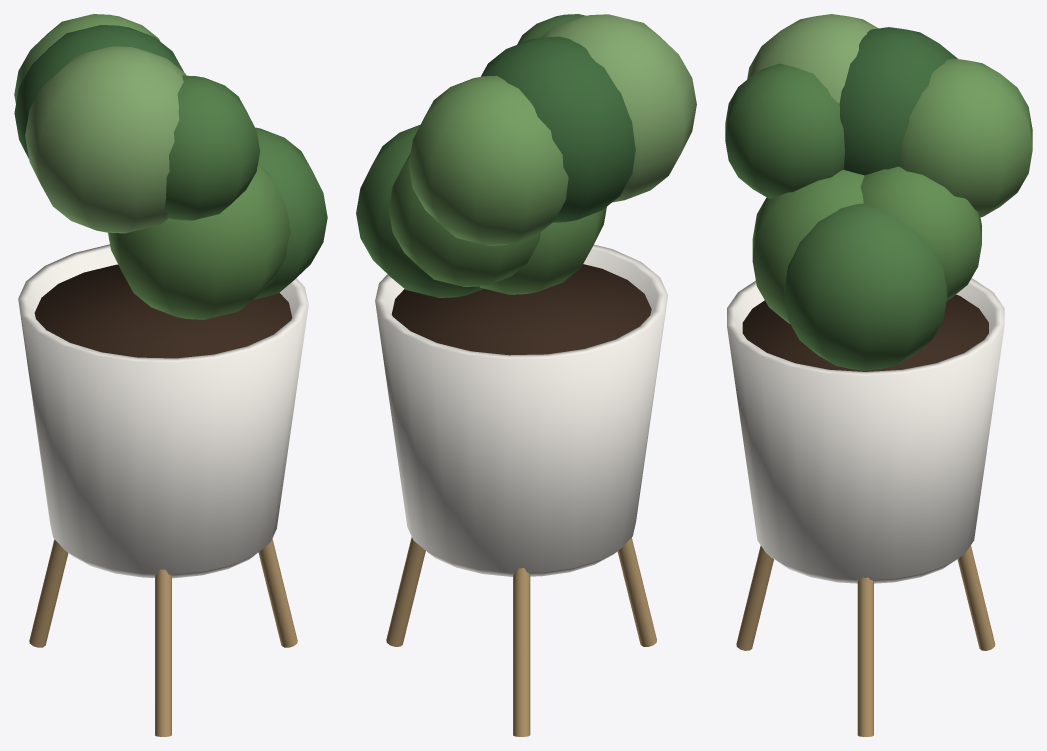
Rendered from i_plant_9.glb.
3 renders of one model, left to right at view 1: azimuth 30°, elevation 25°; view 2: azimuth 150°, elevation 25°; view 3: azimuth 270°, elevation 25°, orthographic. The views are drawn at different scales.
Visible parts, largest first — view 1: o.003, o.009, o.011, o.004, o.010, o.005, o.008, o.002, o.001, o, o.007; view 2: o.003, o.007, o.004, o.008, o.009, o.006, o.005, o.011, o.001, o.002, o, o.010; view 3: o.003, o.005, o.007, o.010, o.008, o.006, o.011, o.004, o.009, o, o.001, o.002.
Part boxes in pixels (<box>): o.003: <box>18,244,308,578</box>; o.009: <box>25,46,186,233</box>; o.011: <box>108,163,290,319</box>; o.004: <box>34,264,292,358</box>; o.010: <box>164,75,259,220</box>; o.005: <box>253,127,327,299</box>; o.008: <box>14,25,183,158</box>; o.002: <box>155,569,171,736</box>; o.001: <box>29,539,68,647</box>; o: <box>258,538,297,647</box>; o.007: <box>14,14,159,103</box>; o.003: <box>375,244,667,576</box>; o.007: <box>408,75,568,245</box>; o.004: <box>391,264,651,355</box>; o.008: <box>481,36,635,222</box>; o.009: <box>540,14,696,202</box>; o.006: <box>388,153,540,286</box>; o.005: <box>356,124,483,297</box>; o.011: <box>479,207,606,294</box>; o.001: <box>513,568,530,736</box>; o.002: <box>617,537,656,646</box>; o: <box>386,537,425,646</box>; o.010: <box>517,14,585,44</box>; o.003: <box>727,278,1004,583</box>; o.005: <box>784,203,947,370</box>; o.007: <box>898,58,1032,217</box>; o.010: <box>725,63,845,198</box>; o.008: <box>839,27,957,175</box>; o.006: <box>860,166,981,300</box>; o.011: <box>752,169,864,323</box>; o.004: <box>742,294,988,371</box>; o.009: <box>747,14,878,103</box>; o: <box>857,577,873,736</box>; o.001: <box>957,545,995,650</box>; o.002: <box>736,545,773,650</box>.
Size of the model in its own units: 0.4004 by 0.8373 by 0.372.
